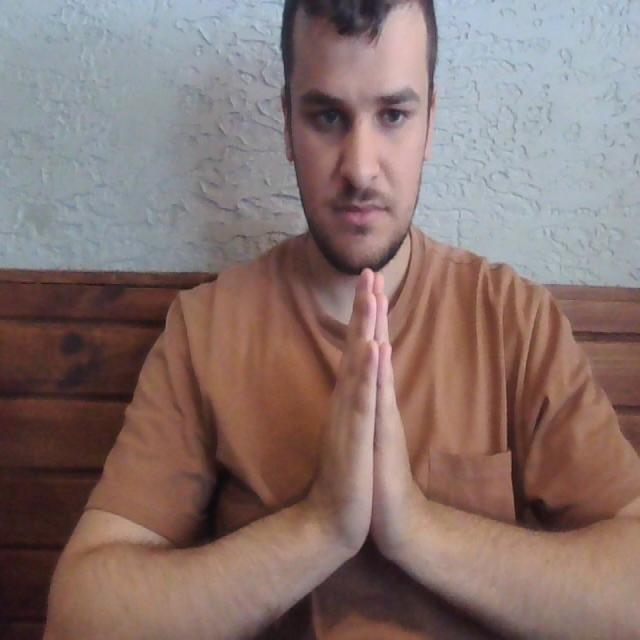Ozur-Dilemek: (319, 254, 422, 564)
